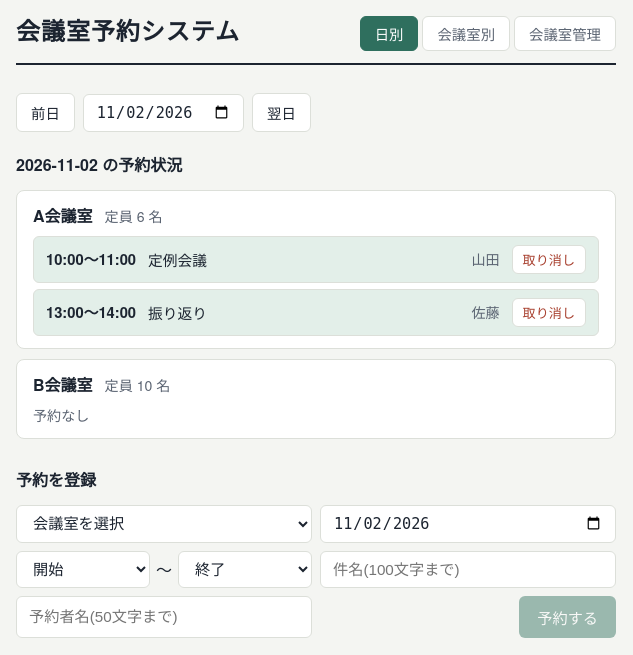
Test: 日別予約状況 › 確認で了承すると予約が取り消される
The width and height of the screenshot is (633, 655).
Expected: the text "定例会議" is shown, [148,249,207,270]
Click the button with aria-label "予約「定例会議」(10:00〜11:00)を取り消す": [549, 260] box [512,245,586,274]
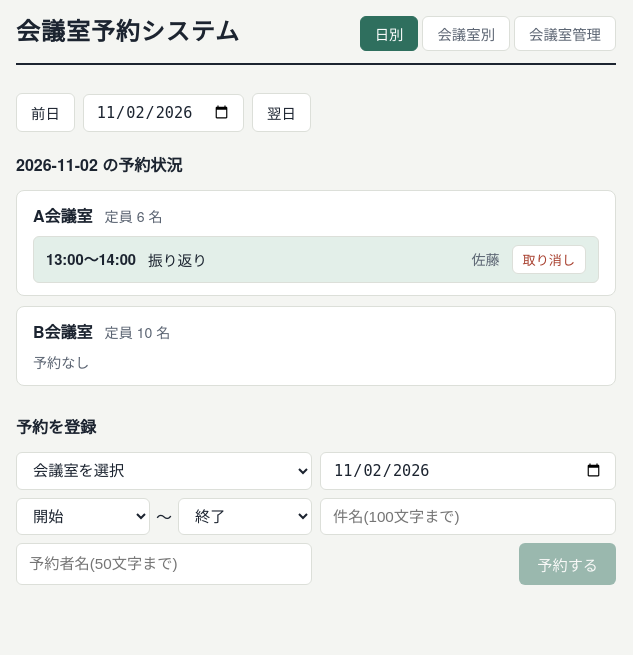
Result: the text "定例会議" is gone
